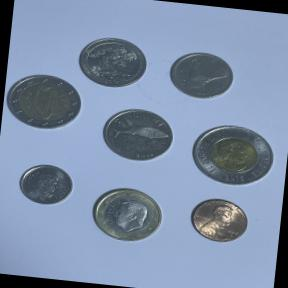coin: (185, 118, 283, 194), (86, 181, 176, 252), (1, 70, 85, 136), (98, 102, 181, 168), (74, 31, 152, 92), (181, 191, 256, 250), (14, 157, 80, 212)
